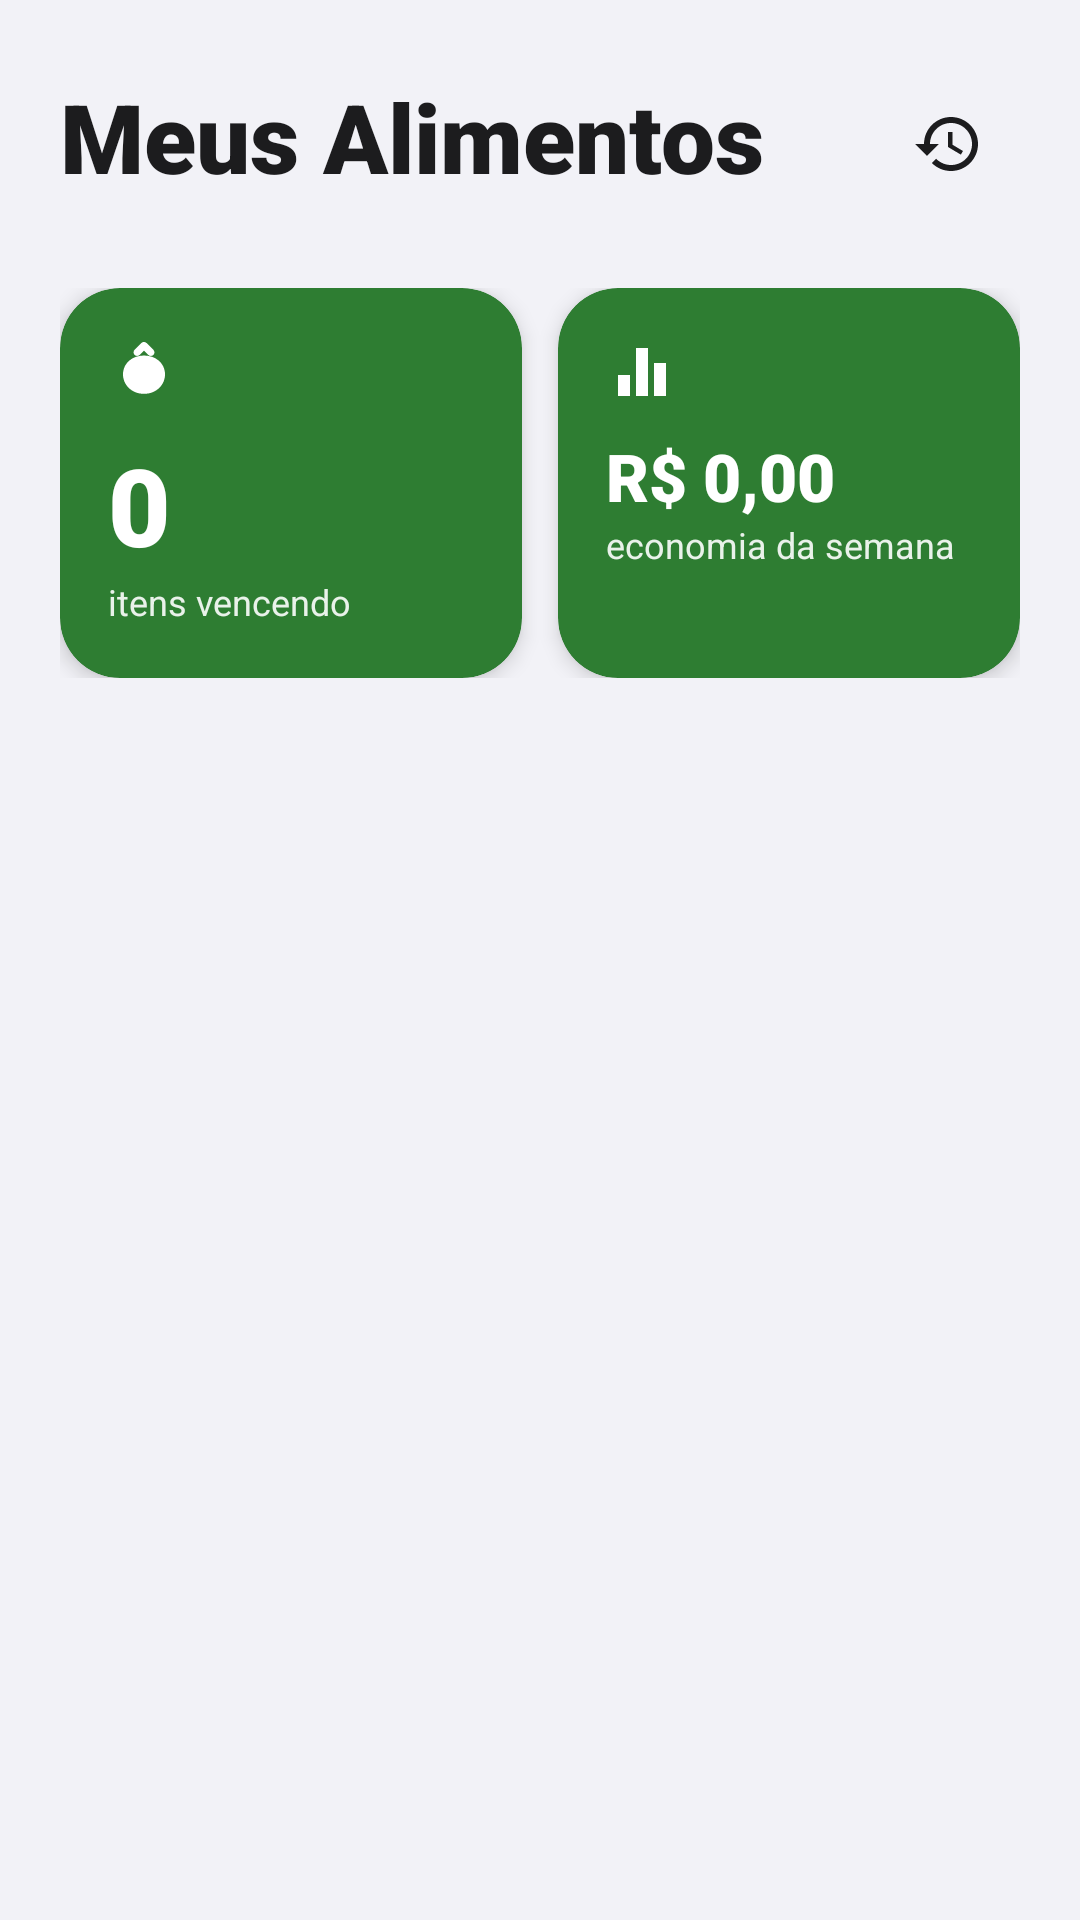

Icon click points for this 1080px x 1920px phone screenshot, format [x,y]:
apple: [144,368]
Histórico de Alimentos: [946,144]
insights: [642,372]
